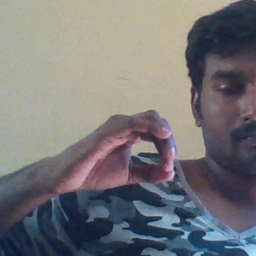O: (60, 107, 179, 194)
